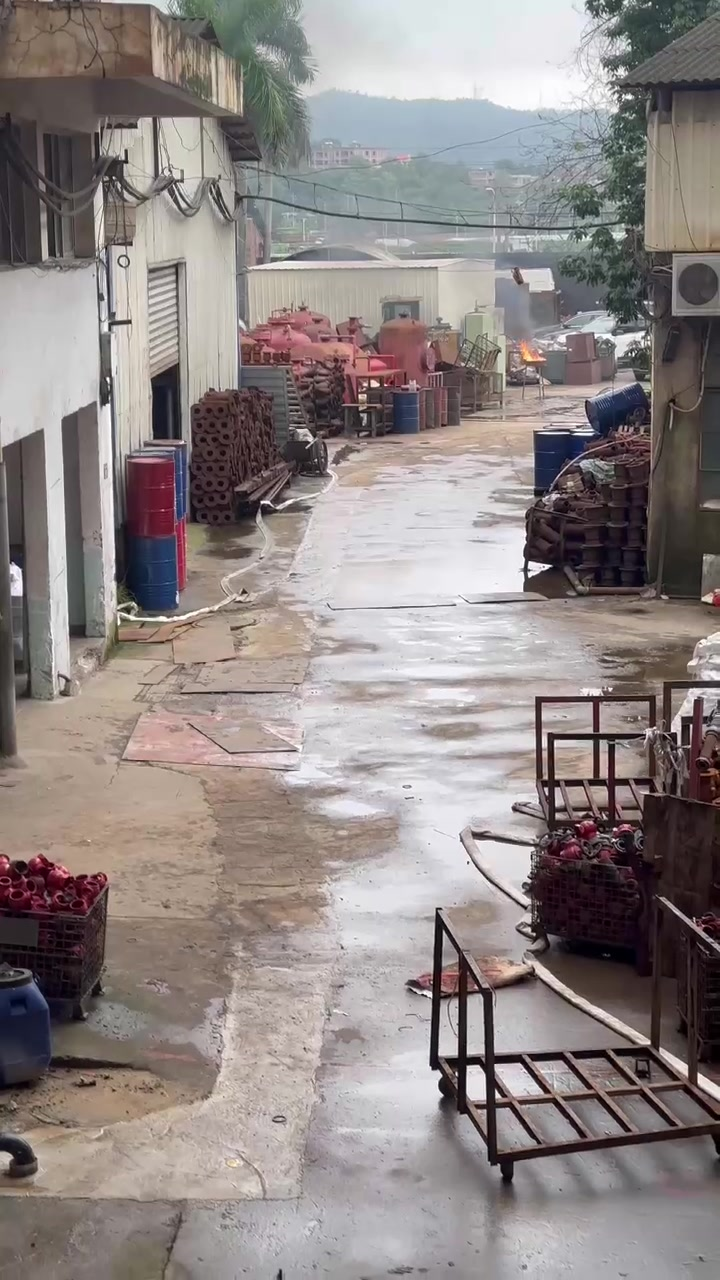fire: (519, 338, 544, 360)
